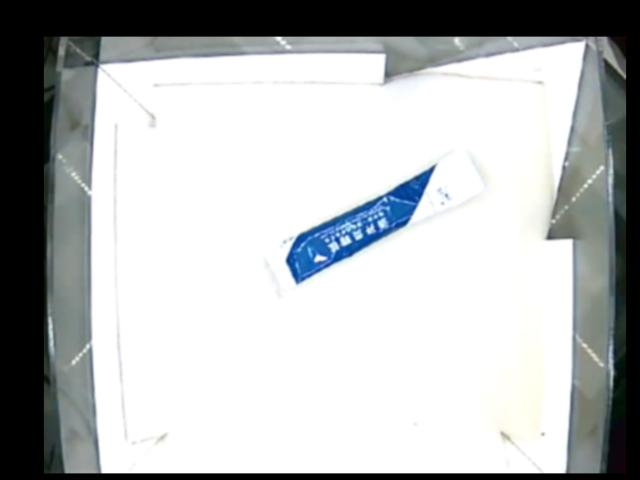Medicine: (261, 151, 485, 294)
